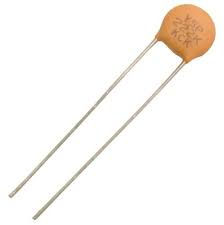ceramic capacitor: (116, 1, 224, 97)
